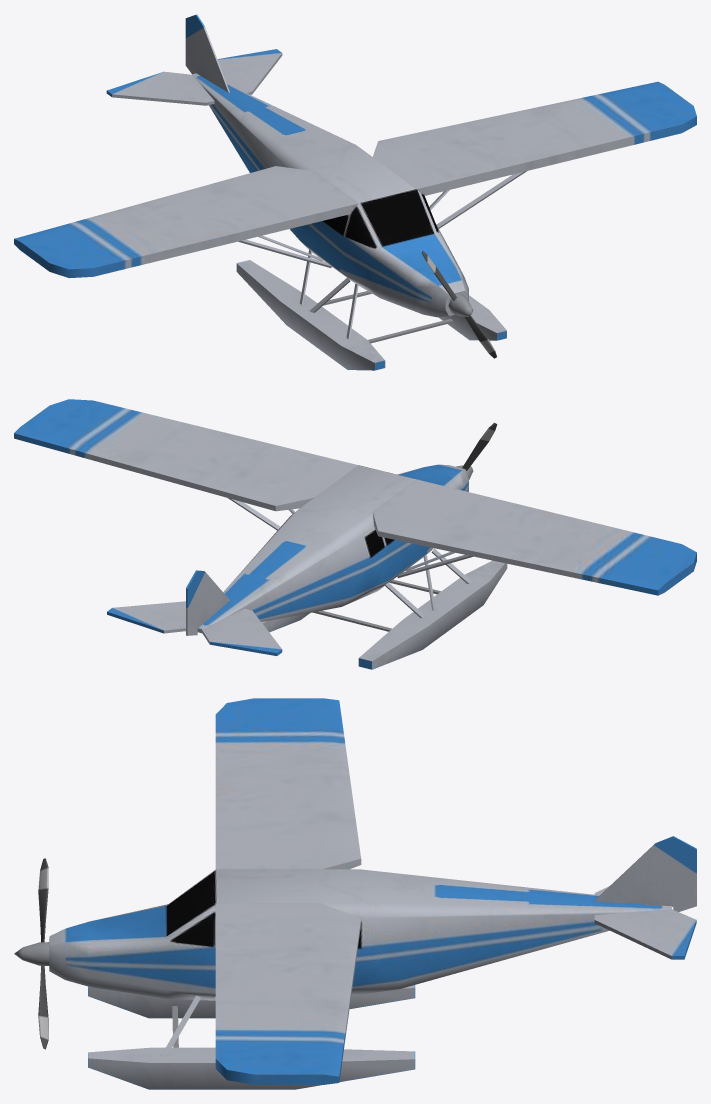
File: floatplane.glb
The picture shows the model from 3 angles, top to bottom: view 1: azimuth 30°, elevation 25°; view 2: azimuth 150°, elevation 25°; view 3: azimuth 270°, elevation 25°; orthographic projection. The views are drawn at different scales.
Visible parts, largest first — view 1: floatplane; view 2: floatplane; view 3: floatplane.
Part boxes in pixels (bbox=[...]): floatplane: bbox=[14, 14, 696, 370]; floatplane: bbox=[14, 399, 696, 669]; floatplane: bbox=[14, 698, 696, 1089].
Size of the model in its own units: 199 by 52.73 by 153.
Materials: 1 (1 with a texture image).
